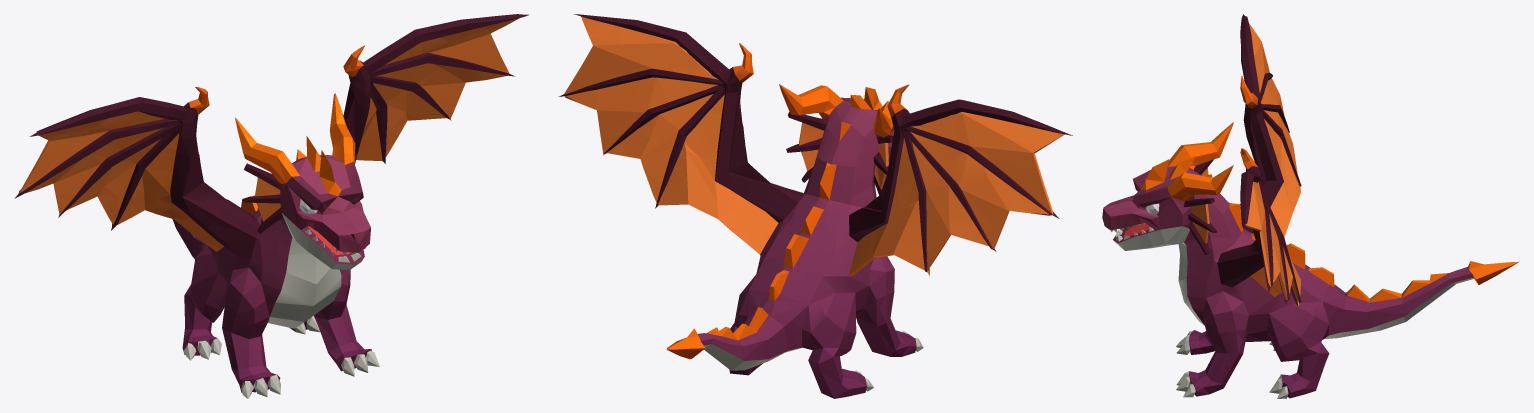
The model's file is Dragon2.glb.
The picture shows the model from 3 angles, left to right: view 1: azimuth 30°, elevation 25°; view 2: azimuth 150°, elevation 25°; view 3: azimuth 270°, elevation 25°; orthographic projection. The views are drawn at different scales.
Visible parts, largest first — view 1: tmp9gm_q7ct.ply; view 2: tmp9gm_q7ct.ply; view 3: tmp9gm_q7ct.ply.
Boxes of the visible parts, box(x1,y1,x2,y2) form: tmp9gm_q7ct.ply: box(14, 14, 528, 398); tmp9gm_q7ct.ply: box(558, 14, 1072, 398); tmp9gm_q7ct.ply: box(1102, 14, 1519, 398).
Bounding box in the file's own units: 1.74 × 0.9692 × 1.42.
Materials: 1 (1 with a texture image).
